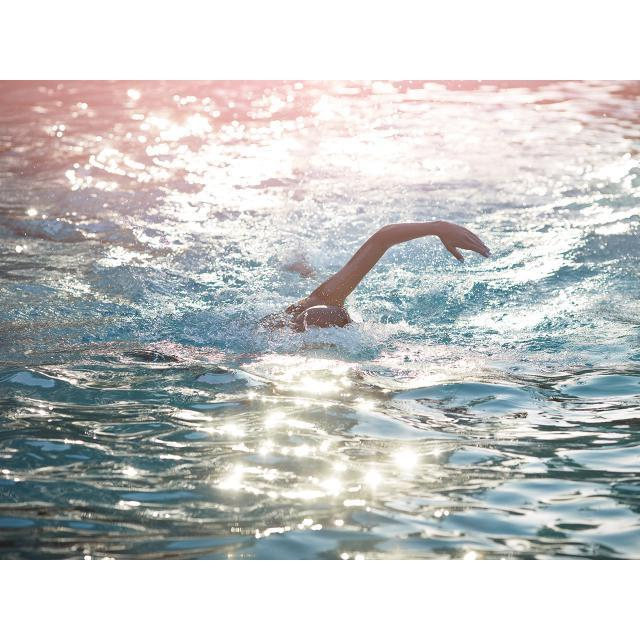human: (275, 213, 497, 342)
